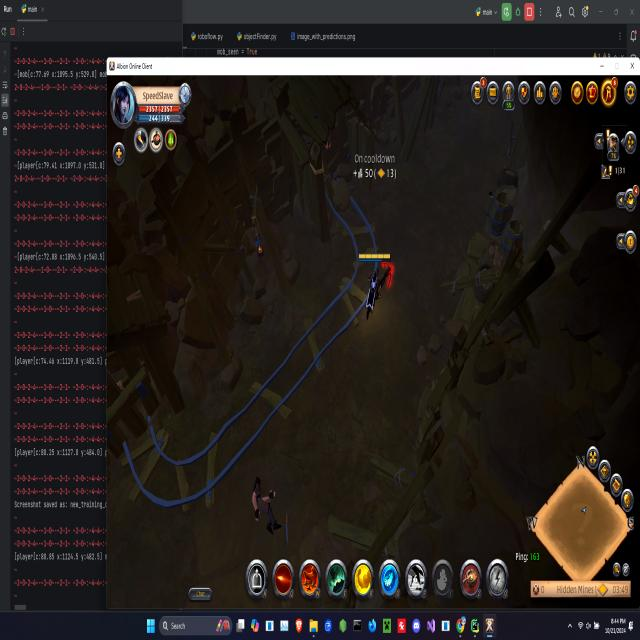red: (359, 248, 392, 321)
